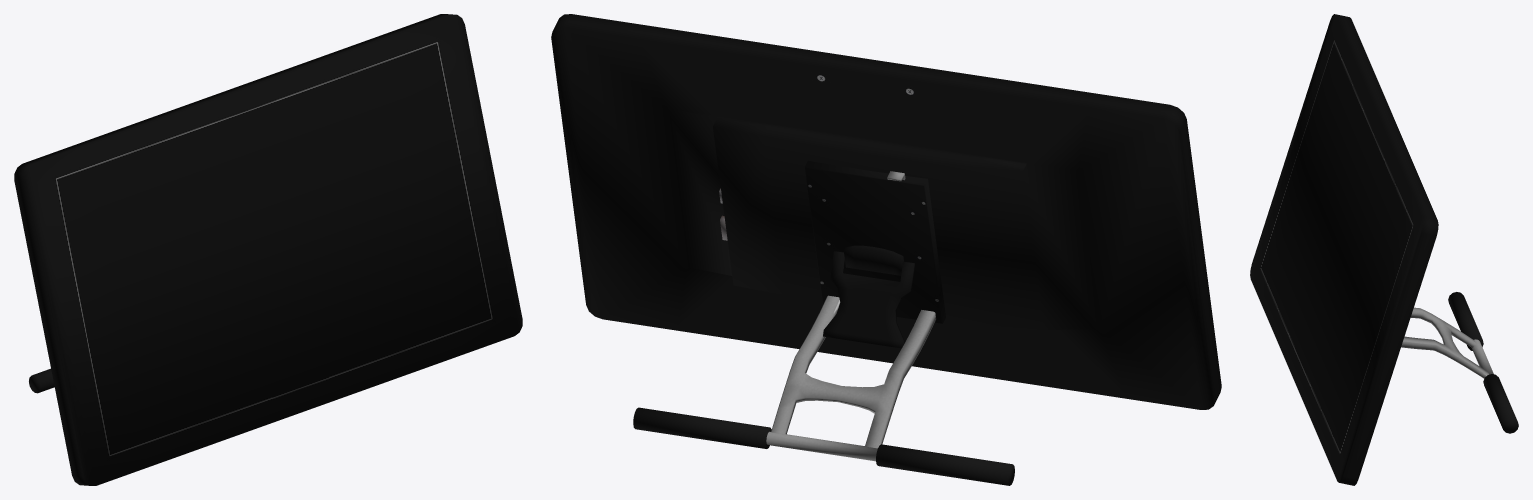
File: HUION.gltf
3 renders of one model, left to right at view 1: azimuth 30°, elevation 25°; view 2: azimuth 150°, elevation 25°; view 3: azimuth 270°, elevation 25°, orthographic. The views are drawn at different scales.
Parts seen in each view (by area): view 1: 1_M_HUION_KAMVAS_GT_221_PRO_0; view 2: 1_M_HUION_KAMVAS_GT_221_PRO_0; view 3: 1_M_HUION_KAMVAS_GT_221_PRO_0.
Boxes of the visible parts, box(x1,y1,x2,y2) form: 1_M_HUION_KAMVAS_GT_221_PRO_0: box(14, 14, 522, 485); 1_M_HUION_KAMVAS_GT_221_PRO_0: box(551, 14, 1221, 485); 1_M_HUION_KAMVAS_GT_221_PRO_0: box(1250, 14, 1518, 485).
Size of the model in its own units: 0.9075 by 0.5043 by 0.4689.
1 material, 1 textured.
